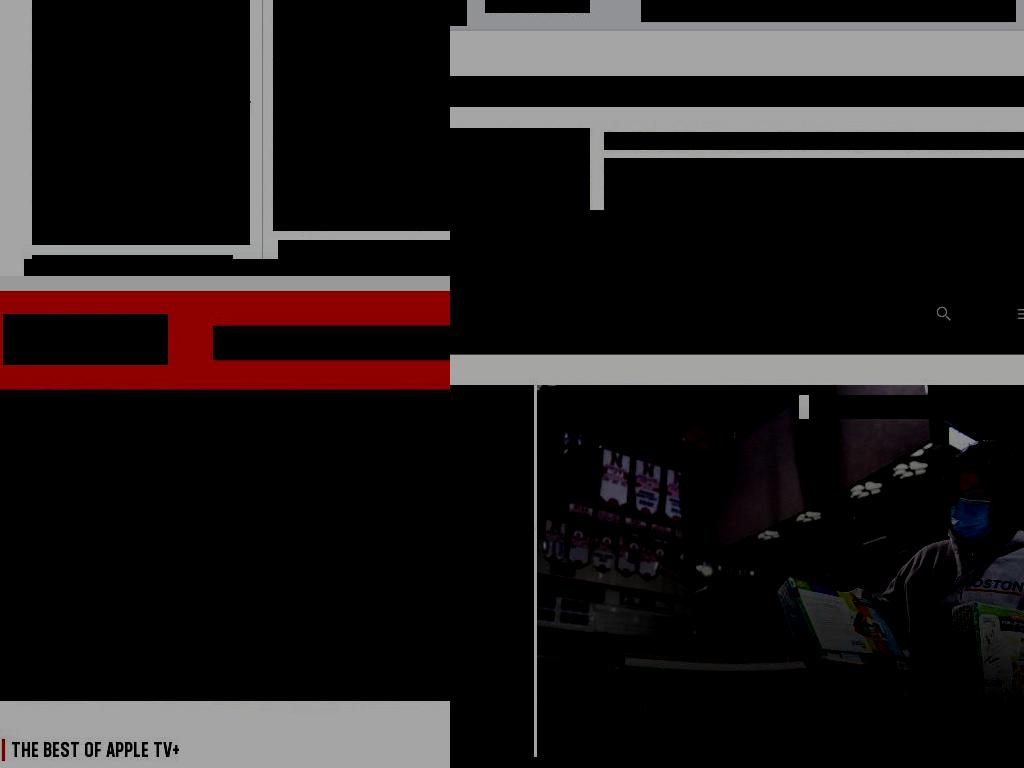button: (0, 390, 450, 701), (273, 0, 450, 231), (450, 415, 534, 448), (35, 141, 69, 156)
field: (641, 0, 1016, 22), (213, 326, 450, 360)
heading: (450, 76, 1024, 107), (11, 739, 450, 764), (3, 314, 168, 365), (52, 195, 242, 227), (809, 395, 1024, 419), (32, 255, 233, 276), (116, 590, 300, 611), (16, 590, 117, 611), (52, 170, 185, 184)
image: (273, 0, 450, 231), (450, 128, 590, 236), (485, 0, 590, 13), (162, 683, 171, 692), (189, 683, 198, 692), (217, 683, 226, 692), (244, 683, 253, 692), (271, 683, 280, 692), (298, 683, 307, 692), (326, 683, 335, 692), (353, 683, 362, 692)
label: (450, 0, 467, 26)
link: (32, 0, 250, 245), (16, 617, 450, 654), (278, 240, 450, 276), (814, 132, 996, 150), (604, 132, 781, 150), (604, 158, 762, 176), (116, 396, 285, 411), (293, 396, 450, 411), (711, 184, 835, 202), (937, 184, 1024, 202)
text: (0, 390, 450, 701), (450, 210, 1024, 276), (604, 158, 1024, 202), (604, 184, 1024, 228), (32, 61, 250, 135), (760, 158, 1024, 176), (0, 394, 112, 413), (835, 184, 939, 202), (75, 141, 158, 156), (780, 132, 815, 150), (994, 132, 1024, 150), (50, 143, 69, 154)
